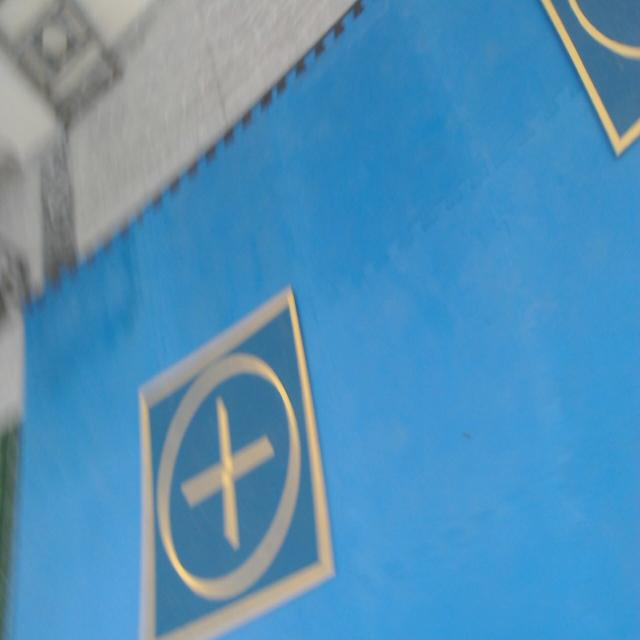base_pouso: (137, 283, 336, 636), (539, 2, 640, 163)
